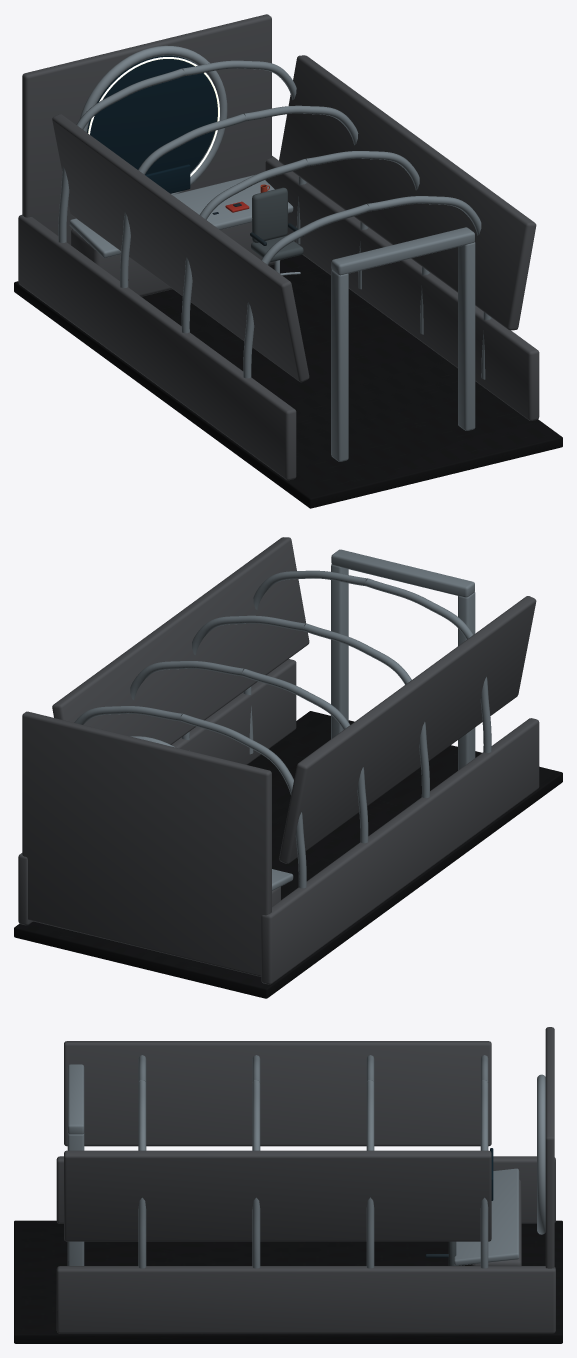
Rendered from ship-interior.glb.
3 renders of one model, top to bottom at view 1: azimuth 30°, elevation 25°; view 2: azimuth 150°, elevation 25°; view 3: azimuth 270°, elevation 25°, orthographic. The views are drawn at different scales.
Visible parts, largest first — view 1: ShipDeck, ShipUpperWall1, ShipUpperWall-1, ShipLowerWall-1, ShipNose, ShipLowerWall1, FrontWindowAperture, ShipEntryPost-1, ShipEntryPost1, ShipControlDesk, RoundShipWindow, ShipEntryHeader (+13 smaller); view 2: ShipNose, ShipUpperWall-1, ShipLowerWall-1, ShipUpperWall1, ShipDeck, ShipLowerWall1, ShipEntryHeader, ShipEntryPost1, ArchedShipRib-12.4, ArchedShipRib-10.8, ArchedShipRib-1-2.4, ArchedShipRib-1-0.8 (+5 smaller); view 3: ShipUpperWall-1, ShipUpperWall1, ShipLowerWall1, ShipDeck, ShipControlDesk, ShipNose, ShipLowerWall-1, RoundShipWindow, ShipEntryHeader, ArchedShipRib1-0.8, ArchedShipRib10.8, ArchedShipRib1-2.4 (+3 smaller).
Boxes of the visible parts, bbox=[...] form: ShipDeck: bbox=[14, 254, 562, 508]; ShipUpperWall1: bbox=[279, 55, 536, 330]; ShipUpperWall-1: bbox=[52, 114, 309, 382]; ShipLowerWall-1: bbox=[18, 215, 296, 480]; ShipNose: bbox=[22, 14, 271, 244]; ShipLowerWall1: bbox=[265, 156, 539, 420]; FrontWindowAperture: bbox=[87, 55, 217, 174]; ShipEntryPost-1: bbox=[331, 270, 348, 461]; ShipEntryPost1: bbox=[458, 242, 475, 430]; ShipControlDesk: bbox=[69, 174, 293, 257]; RoundShipWindow: bbox=[79, 45, 227, 194]; ShipEntryHeader: bbox=[331, 227, 474, 275]; ShipNose: bbox=[22, 711, 271, 976]; ShipUpperWall-1: bbox=[279, 596, 536, 863]; ShipLowerWall-1: bbox=[261, 718, 539, 984]; ShipUpperWall1: bbox=[52, 537, 309, 744]; ShipDeck: bbox=[14, 711, 562, 998]; ShipLowerWall1: bbox=[18, 659, 296, 925]; ShipEntryHeader: bbox=[331, 549, 474, 597]; ShipEntryPost1: bbox=[331, 564, 348, 738]; ArchedShipRib-12.4: bbox=[180, 714, 306, 888]; ArchedShipRib-10.8: bbox=[242, 669, 368, 843]; ArchedShipRib-1-2.4: bbox=[365, 578, 491, 752]; ArchedShipRib-1-0.8: bbox=[303, 623, 429, 797]; ShipUpperWall-1: bbox=[64, 1041, 491, 1146]; ShipUpperWall1: bbox=[64, 1150, 491, 1241]; ShipLowerWall1: bbox=[56, 1266, 555, 1333]; ShipDeck: bbox=[14, 1220, 562, 1343]; ShipControlDesk: bbox=[454, 1168, 519, 1265]; ShipNose: bbox=[545, 1027, 554, 1268]; ShipLowerWall-1: bbox=[56, 1156, 555, 1223]; RoundShipWindow: bbox=[537, 1074, 545, 1234]; ShipEntryHeader: bbox=[67, 1064, 84, 1134]; ArchedShipRib1-0.8: bbox=[252, 1080, 260, 1268]; ArchedShipRib10.8: bbox=[366, 1080, 374, 1268]; ArchedShipRib1-2.4: bbox=[138, 1080, 146, 1268].
Size of the model in its own units: 3.83 by 3.2 by 7.7.
Materials: 13 (1 with a texture image).
